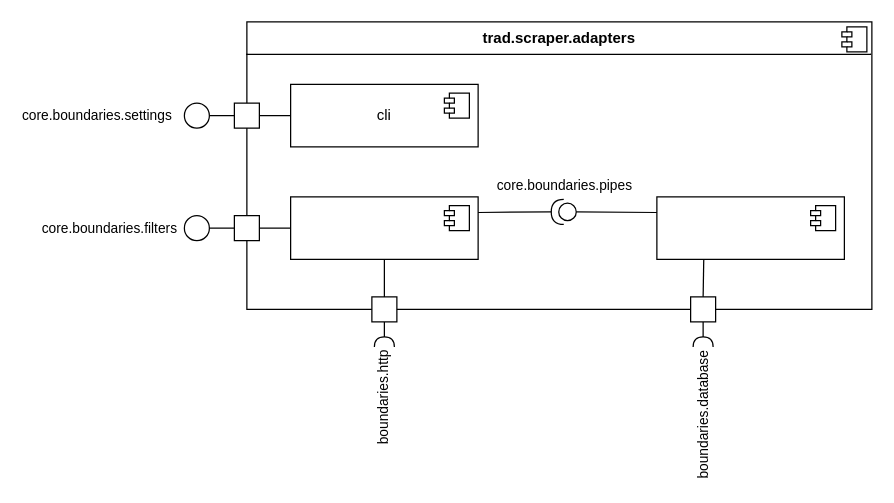
This 894x503 diagram has some shape labels left out. The centre of each missing label's shape, as x and y in pixels:
"filters" belongs at (383,227).
"pipes" belongs at (750,227).
